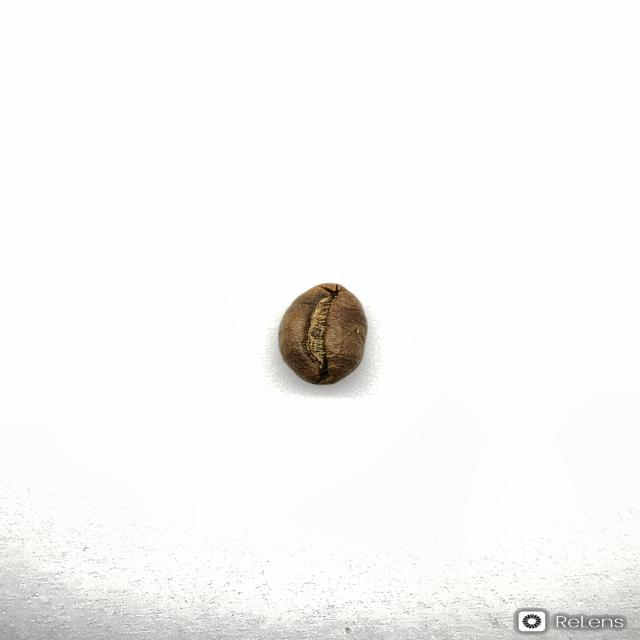Good bean: (277, 282, 368, 385)
